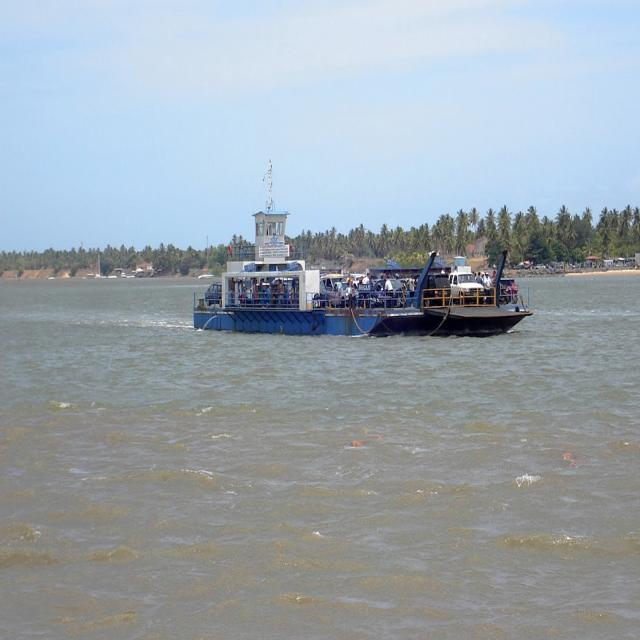cargoship: (193, 200, 529, 338)
